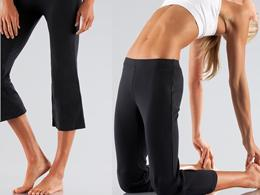C_W_pants: (111, 51, 223, 193), (1, 2, 90, 133)
C_tank top: (155, 1, 223, 40)
